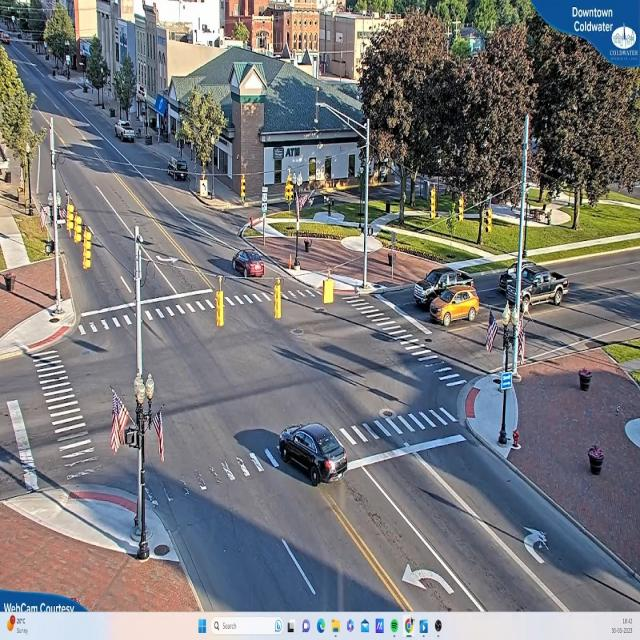car: (277, 424, 350, 488), (511, 266, 567, 308), (428, 285, 482, 326), (414, 266, 466, 302), (232, 250, 266, 280), (164, 157, 188, 180), (115, 122, 136, 143)
